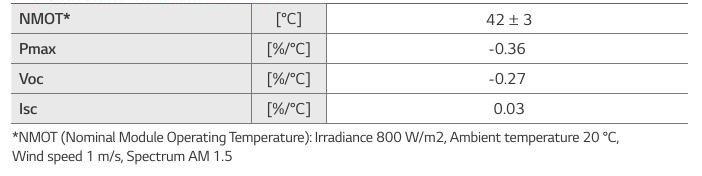table: (2, 1, 699, 132)
table column: (331, 4, 693, 128), (12, 2, 247, 129), (256, 4, 323, 128)
table row: (7, 6, 695, 32), (6, 37, 696, 60), (8, 98, 697, 120), (8, 67, 697, 88)
